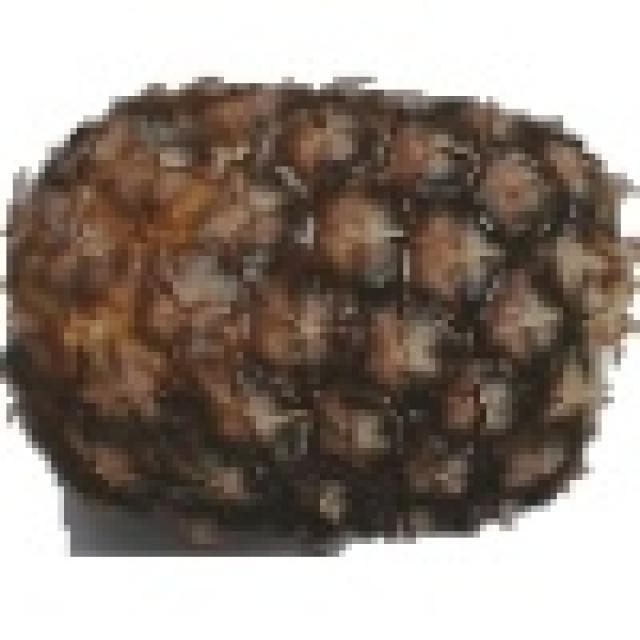pineapple: (19, 70, 634, 525)
